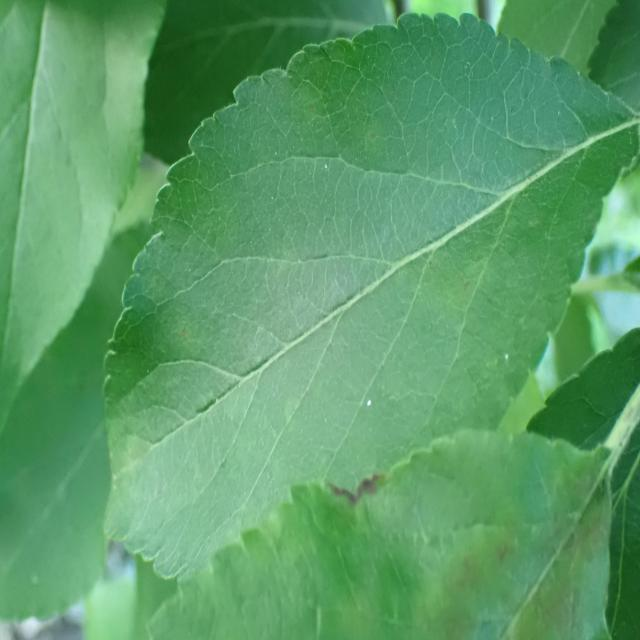scab: (101, 152, 495, 519), (366, 479, 619, 640)
